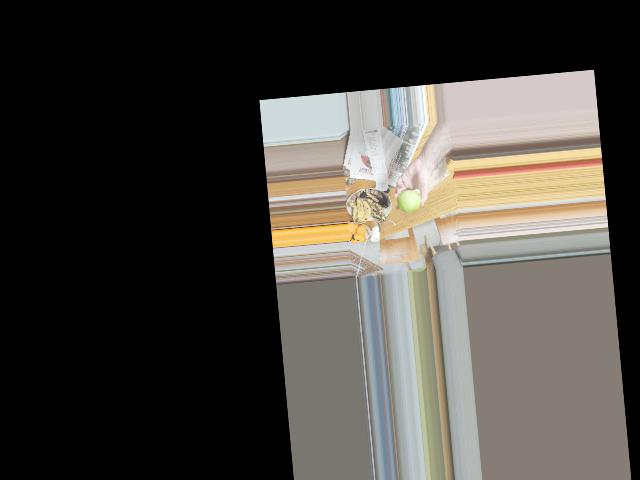apple: (396, 186, 424, 215)
